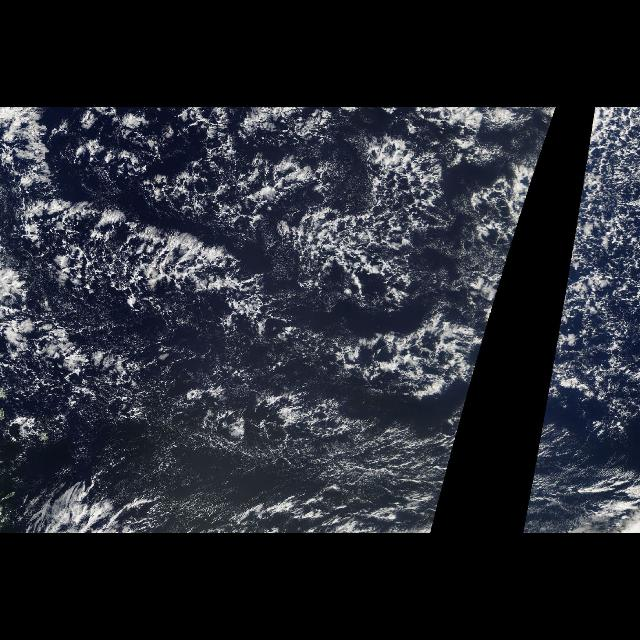Fish: (8, 112, 468, 486), (530, 402, 600, 486)
Gravel: (2, 112, 556, 468), (534, 112, 638, 468)
Sugar: (2, 407, 468, 531), (522, 407, 634, 531)
